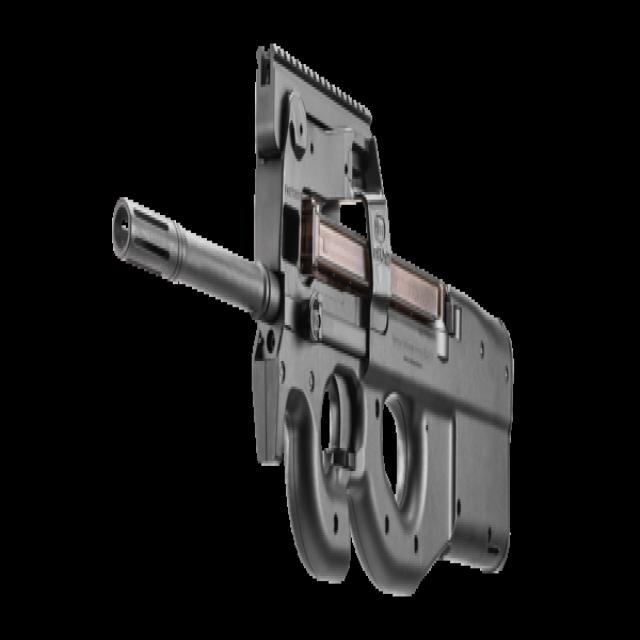SMG: (111, 44, 516, 602)
